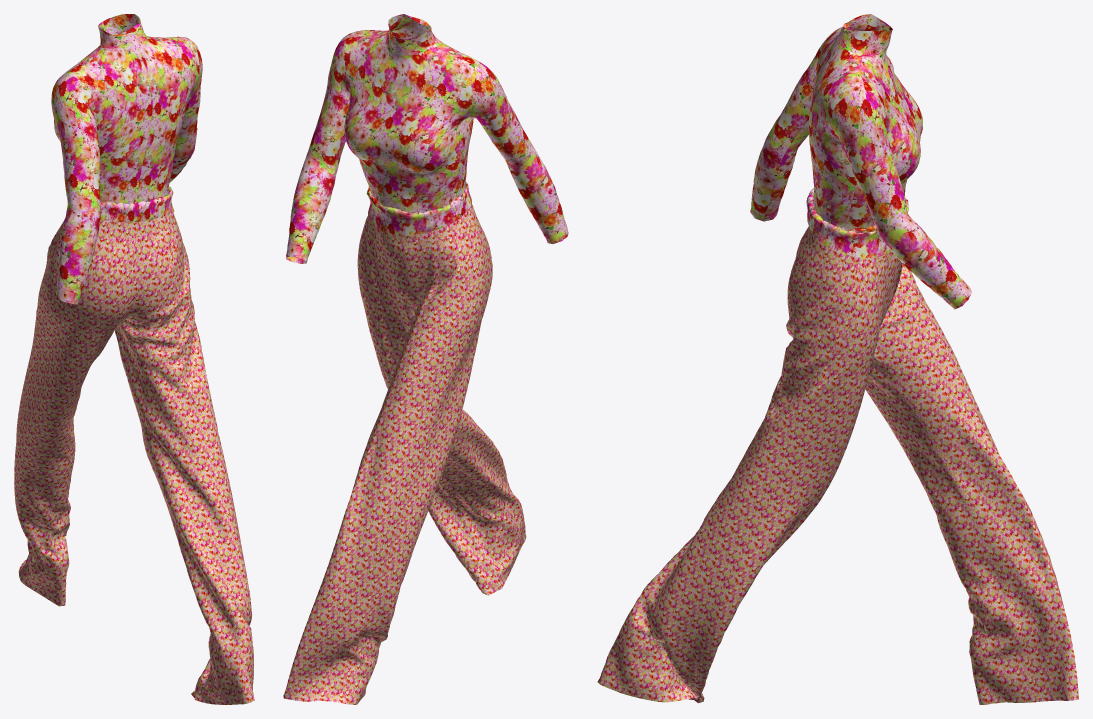
File: DA_HighNeck+WidePants_0000210.obj
3 views of the same model, side by side, from view 1: azimuth 30°, elevation 25°; view 2: azimuth 150°, elevation 25°; view 3: azimuth 270°, elevation 25° (orthographic). The views are drawn at different scales.
Size of the model in its own units: 0.5267 by 1.59 by 1.01.
